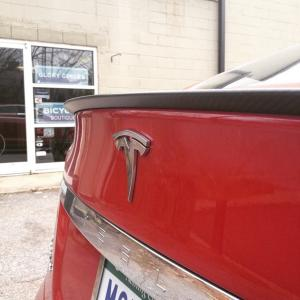Vehicle-registration-plate: (96, 261, 158, 300)
